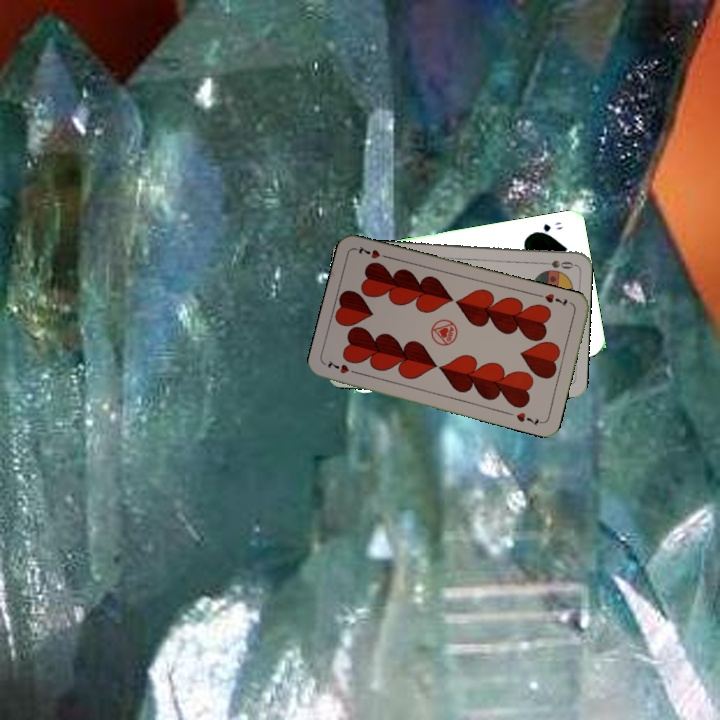GO: (529, 218, 565, 237)
H7: (323, 356, 362, 377), (541, 289, 570, 309)
SO: (535, 256, 576, 271)
